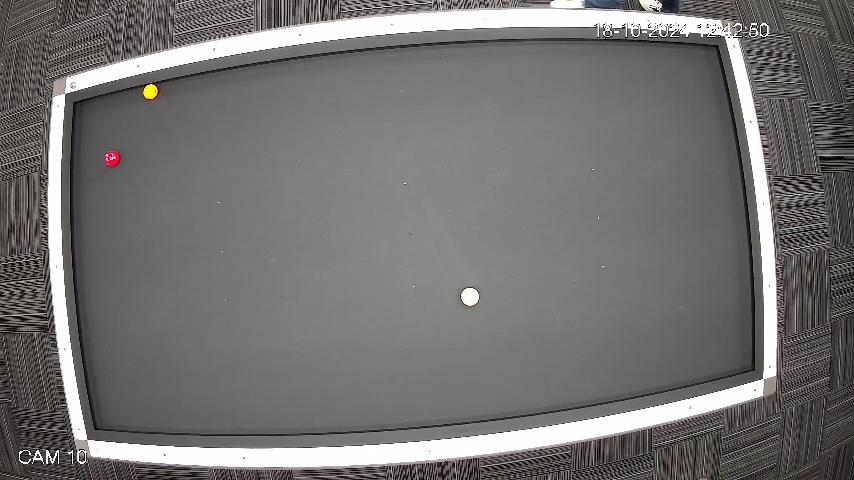Red: (104, 149, 121, 167)
White: (460, 286, 480, 306)
Yellow: (142, 82, 158, 100)
